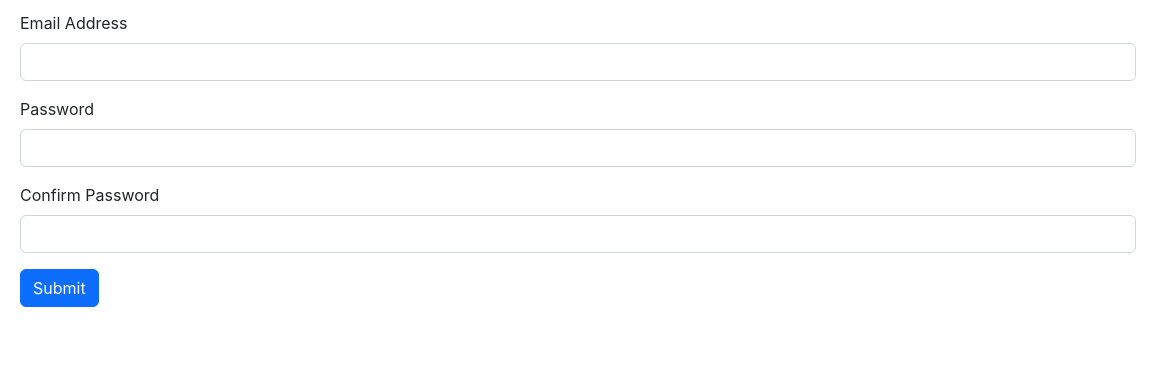
Test: Test App Component › Error Handling › Should show email error when Invalid email is Typed
Expected: the text "The Email is invalid!" is not shown
Type "eltanaeltana.dev" into the field labelled "Email Address". click: (578, 62)
box: [20,43,1136,81]
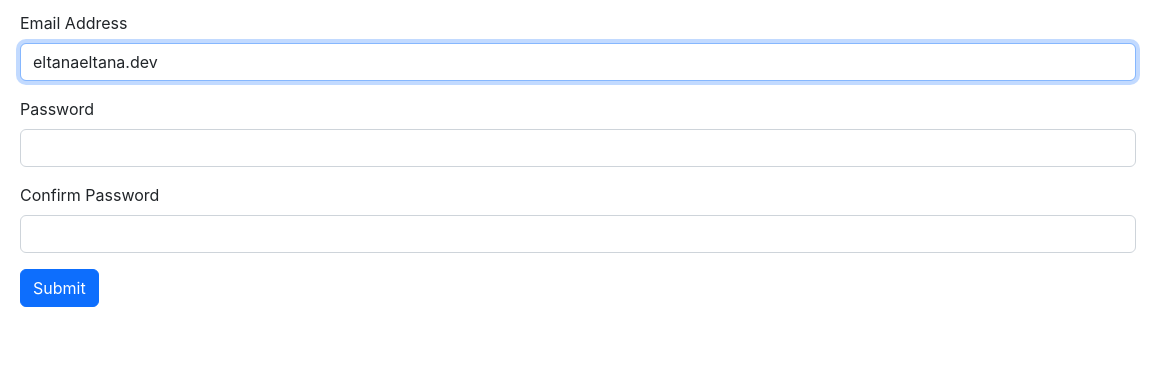
Click the button "Submit". click: (59, 288)
box: [20,269,99,307]
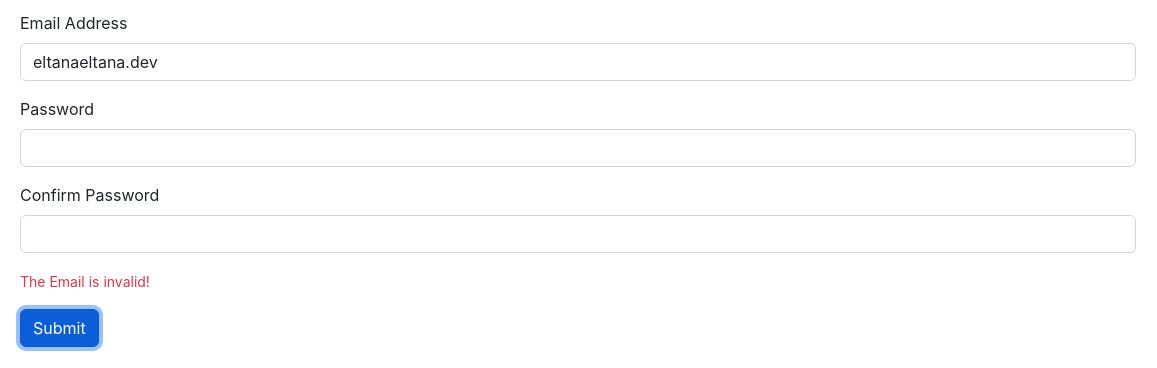
Expected: the text "The Email is invalid!" is shown, [20,273,150,290]
